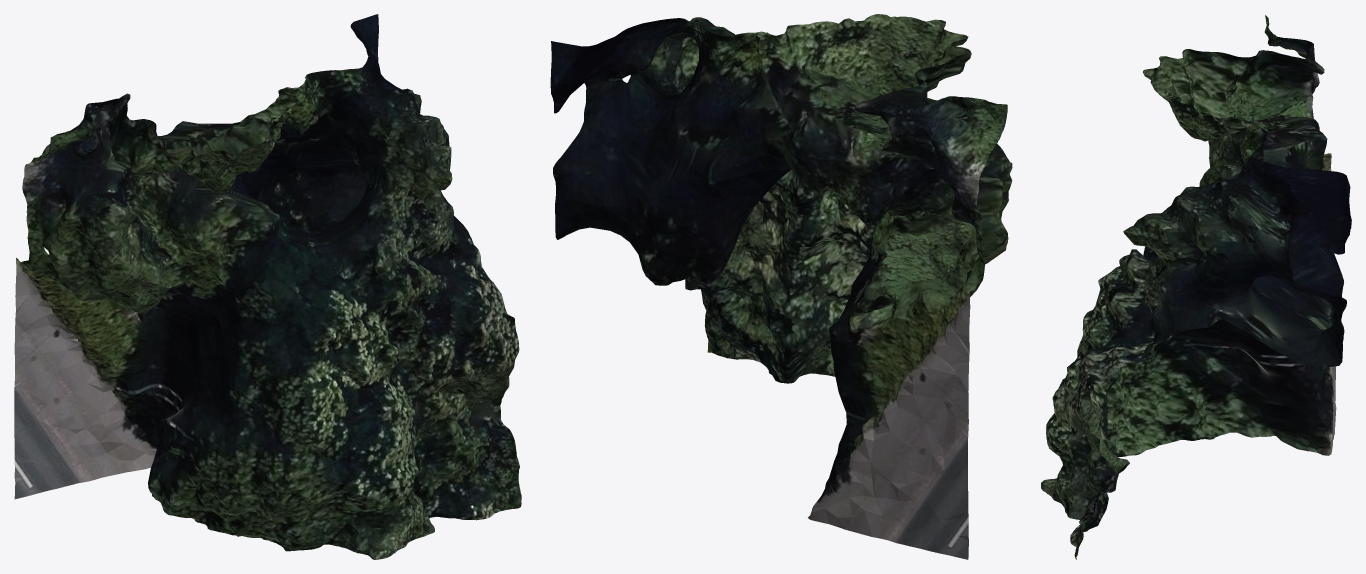
File: Tile_+031_+024_L21_00010100.obj
3 views of the same model, side by side, from view 1: azimuth 30°, elevation 25°; view 2: azimuth 150°, elevation 25°; view 3: azimuth 270°, elevation 25° (orthographic). The views are drawn at different scales.
Size of the model in its own units: 31.38 by 31.31 by 23.7.
1 material, 1 textured.
